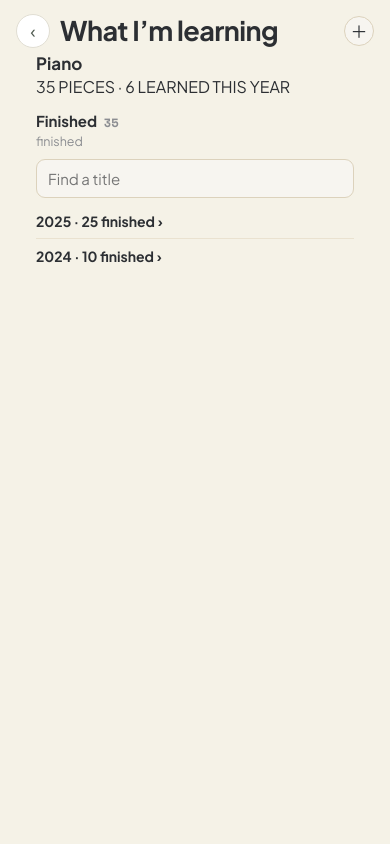
Test: a books shelf, 200 long (P8) › the group header and each row read "Finished", never "Learned", for an all-books shelf
Expected: the field labelled "Find a title" is shown, [36, 158, 354, 198]
Expected: the element with class "rl-group-name-word" is shown, [36, 111, 354, 272]
Click the button "2024 · 10 finished ›": (99, 256) [36, 238, 354, 272]
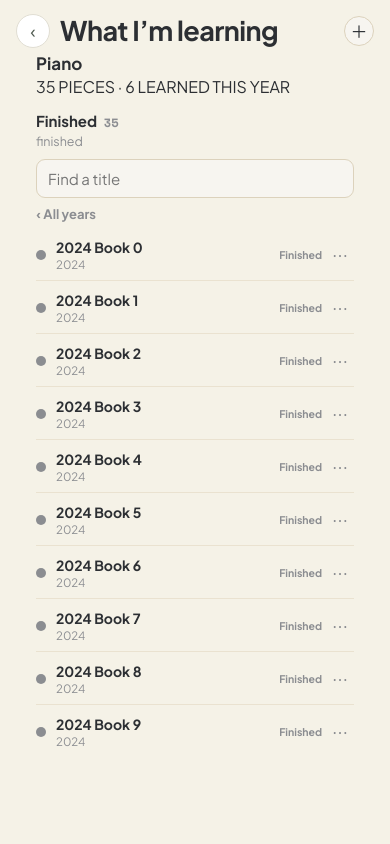
Now the 2nd text "Finished" is shown, box [273, 248, 322, 261]
